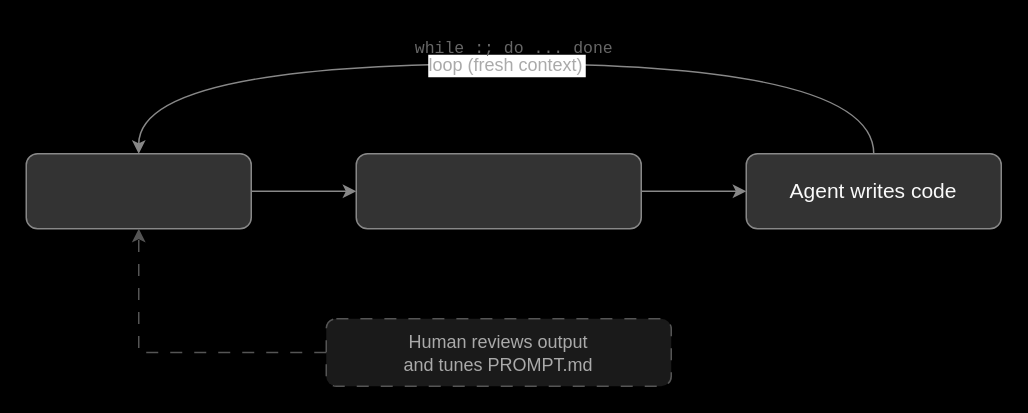
Image size: 1028x413. Some labels were removed from this diagram. The shapes that lost their labels are listed below. From the top down, each one's box as (x1, y1, x2, y2) in pixels, then its label:
(25, 152, 251, 229): PROMPT.md
(355, 152, 641, 229): cat PROMPT.md | claude-code
